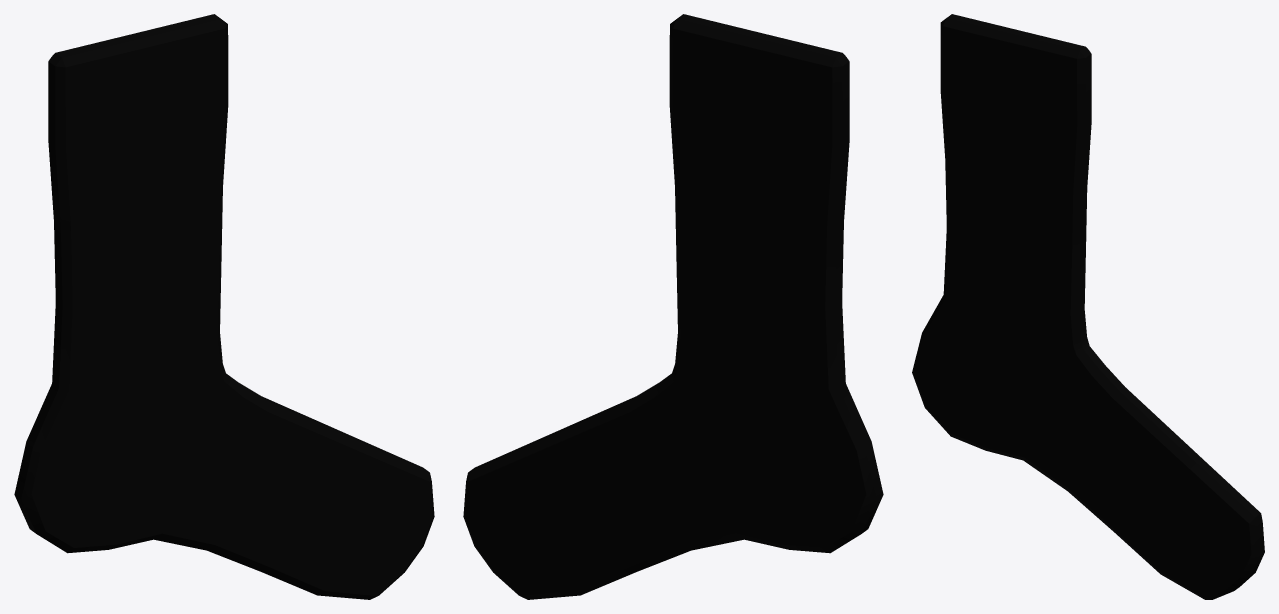
File: Chaussette.fbx
3 views of the same model, side by side, from view 1: azimuth 30°, elevation 25°; view 2: azimuth 150°, elevation 25°; view 3: azimuth 330°, elevation 25° (orthographic). The views are drawn at different scales.
Visible parts, largest first — view 1: Chaussette; view 2: Chaussette; view 3: Chaussette.
Boxes of the visible parts, x1,y1,x2,y2 form: Chaussette: (14,14,434,599); Chaussette: (463,14,883,599); Chaussette: (912,14,1264,599).
Size of the model in its own units: 24.97 by 35.64 by 1.5.
